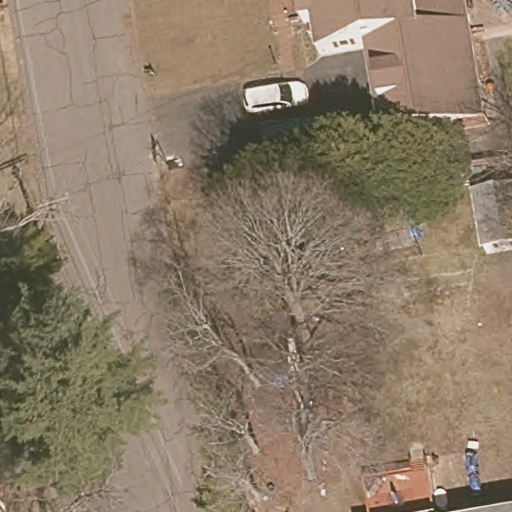DT: (33, 192, 70, 233)
